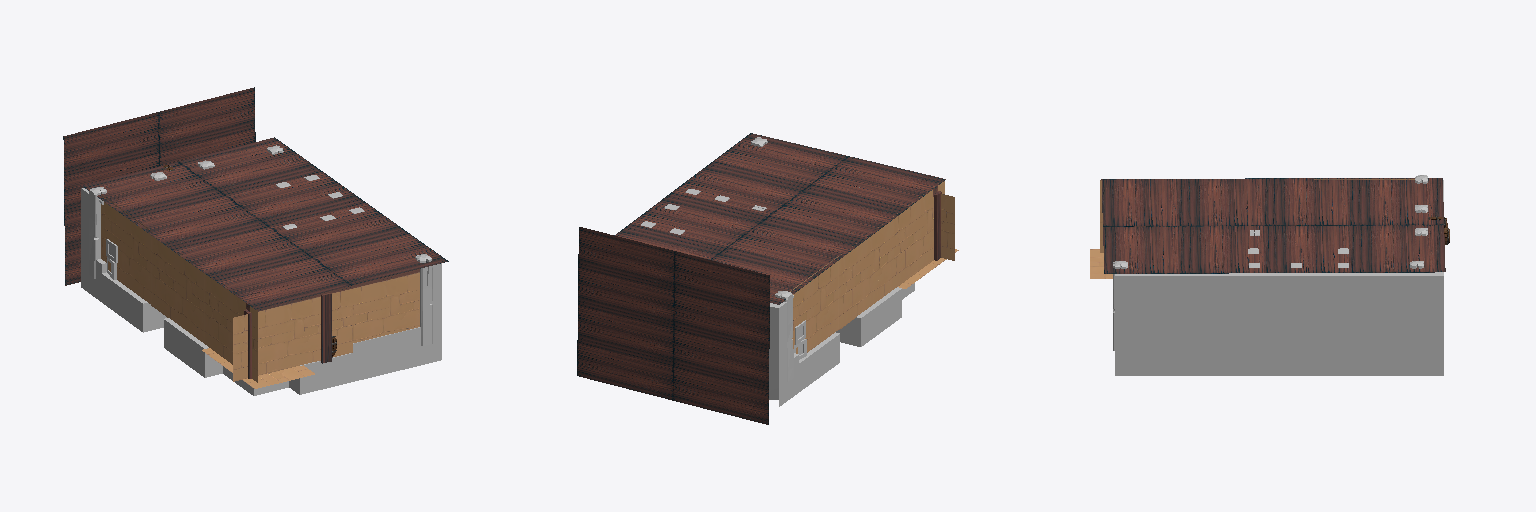
3 renders of one model, left to right at view 1: azimuth 30°, elevation 25°; view 2: azimuth 150°, elevation 25°; view 3: azimuth 270°, elevation 25°, orthographic.
Visible parts, largest first — view 1: Plane.001, TheInn_Mesh, Plane.002_Plane.003, Plane.002, Plane, Plane.006, Plane.003_Plane.007, Plane.004, Plane.005, Cube.001_Cube.009; view 2: Plane.002_Plane.003, Plane.001, TheInn_Mesh, Plane.006, Plane.004, Plane.003_Plane.007, Plane.002; view 3: TheInn_Mesh, Plane.001.
Boxes of the visible parts, box(x1,y1,x2,y2) form: Plane.001: box(83, 137, 448, 309); TheInn_Mesh: box(81, 145, 441, 395); Plane.002_Plane.003: box(63, 87, 255, 285); Plane.002: box(233, 296, 320, 381); Plane: box(332, 272, 419, 356); Plane.006: box(151, 232, 204, 343); Plane.003_Plane.007: box(101, 194, 150, 303); Plane.004: box(204, 273, 257, 382); Plane.005: box(202, 348, 314, 388); Cube.001_Cube.009: box(321, 293, 331, 363); Plane.002_Plane.003: box(577, 227, 769, 424); Plane.001: box(614, 133, 945, 304); TheInn_Mesh: box(641, 137, 914, 406); Plane.006: box(839, 221, 891, 329); Plane.004: box(892, 181, 944, 289); Plane.003_Plane.007: box(790, 256, 838, 353); Plane.002: box(941, 194, 954, 260); TheInn_Mesh: box(1113, 175, 1443, 375); Plane.001: box(1101, 178, 1445, 273).
Size of the model in its own units: 1.18 by 0.8165 by 1.85.
Materials: 17 (4 with a texture image).